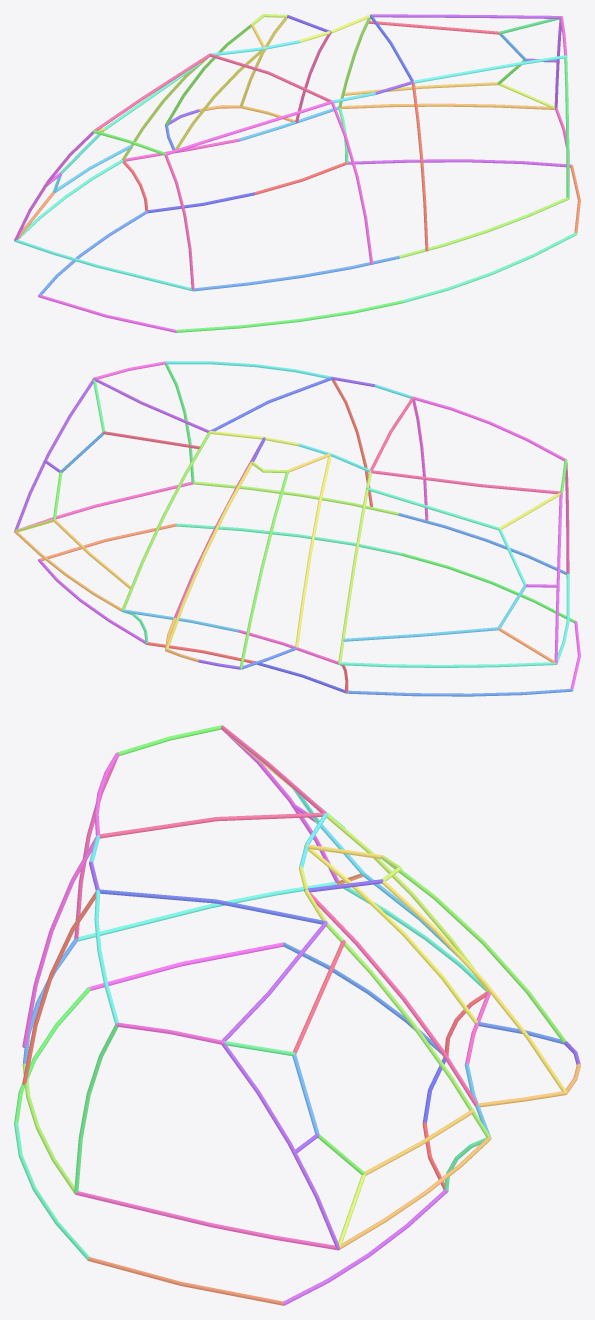
Rendered from ils_speaker.gltf.
The picture shows the model from 3 angles, top to bottom: view 1: azimuth 30°, elevation 25°; view 2: azimuth 150°, elevation 25°; view 3: azimuth 270°, elevation 25°; orthographic projection. The views are drawn at different scales.
Bounding box in the file's own units: 0.8101 × 0.2758 × 0.5295.
